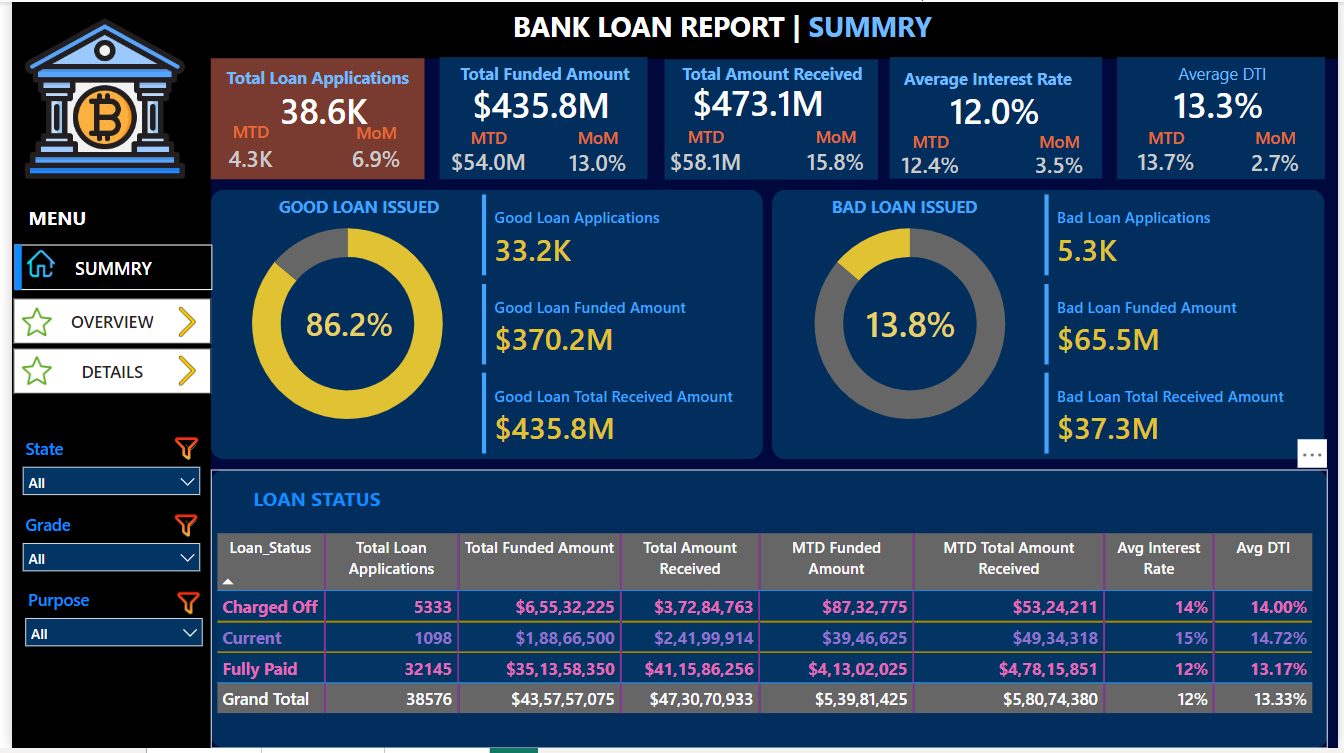

The page's visual inventory and layout, read from the dashboard file:
{"tool":"powerbi","page":{"name":"SUMMRY","canvas":[1280,720],"ordinal":0},"visuals":[{"type":"shape","box":[412,53.1,200.9,118],"z":0,"group":"g2"},{"type":"shape","box":[847,53.1,205.2,117.4],"z":0,"group":"g4"},{"type":"shape","box":[1066.1,53.1,200.9,118],"z":0,"group":"g5"},{"type":"shape","box":[191.8,54.3,206.3,117],"z":0,"group":"g1"},{"type":"shape","box":[628.9,54.9,206,116.2],"z":0,"group":"g3"},{"type":"shape","box":[733.5,181,533.2,260.6],"z":0},{"type":"shape","box":[0,0,1280.3,54.9],"z":1000},{"type":"card","title":"Total Loan Applications","fields":{"Values":["Bank_loan_Data.Total Amount Received"]},"box":[647.8,76.1,144.2,43.1],"z":1000,"group":"g3"},{"type":"card","title":"Total Loan Applications","fields":{"Values":["Bank_loan_Data.Total Funded Amount"]},"box":[431.3,78.6,157.1,41.7],"z":1000,"group":"g2"},{"type":"card","title":"Total Loan Applications","fields":{"Values":["Bank_loan_Data.Avg DTI"]},"box":[1085.4,78.6,157.1,41.7],"z":1000,"group":"g5"},{"type":"card","title":"Total Loan Applications","fields":{"Values":["Bank_loan_Data.Total Loan Applications"]},"box":[237.3,82.7,126.6,44.3],"z":1000,"group":"g1"},{"type":"card","title":"Total Loan Applications","fields":{"Values":["Bank_loan_Data.Avg Interest Rate"]},"box":[884.1,85.2,128.2,39.4],"z":1000,"group":"g4"},{"type":"textbox","box":[632.8,53.1,200.8,39.4],"z":2000,"group":"g3"},{"type":"textbox","box":[412,53.6,203.4,46.5],"z":2000,"group":"g2"},{"type":"textbox","box":[1066.1,53.6,203.4,46.5],"z":2000,"group":"g5"},{"type":"textbox","box":[192.3,56.9,206.3,34],"z":2000,"group":"g1"},{"type":"textbox","box":[848.7,57.6,187.5,31.8],"z":2000,"group":"g4"},{"type":"shape","box":[191.8,181,533,260.6],"z":2000},{"type":"shape","box":[0,54.9,192.1,665.5],"z":3000},{"type":"card","title":"MTD","fields":{"Values":["Bank_loan_Data.MTD Loan Applications"]},"box":[198.8,113.9,62.6,57.9],"z":3000,"group":"g1"},{"type":"card","title":"MTD","fields":{"Values":["Bank_loan_Data.MTD Total Amount Received"]},"box":[628,117.7,81.9,53.2],"z":3000,"group":"g3"},{"type":"card","title":"MTD","fields":{"Values":["Bank_loan_Data.MTD Funded Amount"]},"box":[410,119.1,99.6,51.5],"z":3000,"group":"g2"},{"type":"card","title":"MTD","fields":{"Values":["Bank_loan_Data.MTD Avg DTI"]},"box":[1064.1,119.1,99.6,51.5],"z":3000,"group":"g5"},{"type":"card","title":"MTD","fields":{"Values":["Bank_loan_Data.MTD Avg Int Rate"]},"box":[845.9,122.8,81.5,48.3],"z":3000,"group":"g4"},{"type":"card","title":"MoM","fields":{"Values":["Bank_loan_Data.MoM Loan Applications"]},"box":[307,114,90.4,55.3],"z":4000,"group":"g1"},{"type":"card","title":"MoM","fields":{"Values":["Bank_loan_Data.MoM Total Amount Received"]},"box":[753.3,117.7,81.9,53.2],"z":4000,"group":"g3"},{"type":"card","title":"MoM","fields":{"Values":["Bank_loan_Data.MoM Total Funded Amount"]},"box":[515,119.1,100.4,52.4],"z":4000,"group":"g2"},{"type":"card","title":"MoM","fields":{"Values":["Bank_loan_Data.MoM Avg DTI"]},"box":[1169.1,119.1,100.4,52.4],"z":4000,"group":"g5"},{"type":"card","title":"MoM","fields":{"Values":["Bank_loan_Data.MoM Avg Int Rate"]},"box":[970.5,122.8,81.5,48.3],"z":4000,"group":"g4"},{"type":"card","title":"Total Loan Applications","fields":{"Values":["Bank_loan_Data.Good Bad Loan %"]},"box":[803.5,292,127.9,38.6],"z":4000},{"type":"card","title":"Total Loan Applications","fields":{"Values":["Bank_loan_Data.Good Loan %"]},"box":[261.8,292,127.9,38.6],"z":5000},{"type":"textbox","box":[334.8,0,699.8,54.9],"z":6000},{"type":"group","id":"g1","title":"Group 1","box":[191.8,54.3,206.3,118.2],"z":7000},{"type":"group","id":"g2","title":"Group 1","box":[410,53.1,206,118],"z":8000},{"type":"group","id":"g3","title":"Group 1","box":[628,53.1,206,118],"z":9000},{"type":"group","id":"g4","title":"Group 1","box":[845.9,53.1,206.3,118],"z":10000},{"type":"group","id":"g5","title":"Group 1","box":[1064.1,53.1,206,118],"z":11000},{"type":"donutChart","fields":{"Category":["Bank_loan_Data.Good Loan vs Bad Loan"],"Y":["Bank_loan_Data.Total Loan Applications"]},"box":[742,190.6,249.7,240.1],"z":12000},{"type":"shape","title":"LOAN STATUS","box":[191.8,451.2,1078.6,269],"z":13000},{"type":"donutChart","fields":{"Category":["Bank_loan_Data.Good Loan vs Bad Loan"],"Y":["Bank_loan_Data.Total Loan Applications"]},"box":[199.1,190.6,249.7,240.1],"z":14000},{"type":"textbox","box":[237.7,181,194.2,35],"z":15000},{"type":"cardVisual","fields":{"Data":["Bank_loan_Data.Good Loan Applications","Bank_loan_Data.Good Loan Funded Amount","Bank_loan_Data.Good Loan Received Amount"]},"box":[448.8,181,271.4,260.6],"z":16000},{"type":"textbox","box":[752.8,181,217.2,35],"z":17000},{"type":"cardVisual","fields":{"Data":["Bank_loan_Data.Bad Loan Applications","Bank_loan_Data.Bad Loan Funded Amount","Bank_loan_Data.Bad Loan Total Received Amount"]},"box":[991.7,181,271.4,260.6],"z":18000},{"type":"tableEx","fields":{"Values":["Bank_loan_Data.loan_status","Bank_loan_Data.Total Loan Applications","Bank_loan_Data.Total Funded Amount","Bank_loan_Data.Total Amount Received","Bank_loan_Data.MTD Funded Amount","Bank_loan_Data.MTD Total Amount Received","Bank_loan_Data.Avg Interest Rate","Bank_loan_Data.Avg DTI"]},"box":[191.8,507.9,1071.3,196.6],"z":19000},{"type":"textbox","box":[199.1,462.1,190.6,45.8],"z":20000},{"type":"slicer","fields":{"Values":["Bank_loan_Data.address_state"]},"box":[0,415,191.8,72.4],"z":21000},{"type":"slicer","fields":{"Values":["Bank_loan_Data.grade"]},"box":[0,488.6,191.8,72.4],"z":22000},{"type":"slicer","fields":{"Values":["Bank_loan_Data.purpose"]},"box":[2.4,561,191.8,76],"z":23000},{"type":"image","box":[0,6,179.8,174.9],"z":24000},{"type":"pageNavigator","box":[2.4,234,191.8,44.6],"z":25000},{"type":"pageNavigator","box":[1.2,285.9,191.8,44.6],"z":26000},{"type":"pageNavigator","box":[1.2,334.2,191.8,44.6],"z":27000},{"type":"image","box":[136.3,289.5,65.1,38.6],"z":28000},{"type":"image","box":[136.3,336.6,65.1,38.6],"z":29000},{"type":"image","box":[144.8,410.2,47.1,41],"z":30000},{"type":"image","box":[144.8,485,47.1,39.8],"z":31000},{"type":"image","box":[147.2,559.8,47.1,39.8],"z":32000},{"type":"image","box":[2.4,234,51.9,37.4],"z":33000},{"type":"image","box":[0,289.5,48.3,38.6],"z":34000},{"type":"image","box":[0,336.6,48.3,38.6],"z":35000},{"type":"textbox","box":[10.9,190.6,85.7,35],"z":35001}]}

Visuals, with their boxes in screenshot pixels (x1, y1, x2, y2), scaled from the page's 1280x720 canvas onto the 1344x753 screenshot:
shape: 433:56:644:179
shape: 889:56:1105:178
shape: 1119:56:1330:179
shape: 201:57:418:179
shape: 660:57:877:179
shape: 770:189:1330:462
shape: 0:0:1343:57
"Total Loan Applications" card: 680:80:832:125
"Total Loan Applications" card: 453:82:618:126
"Total Loan Applications" card: 1140:82:1305:126
"Total Loan Applications" card: 249:86:382:133
"Total Loan Applications" card: 928:89:1063:130
textbox: 664:56:875:97
textbox: 433:56:646:105
textbox: 1119:56:1333:105
textbox: 202:60:419:95
textbox: 891:60:1088:93
shape: 201:189:761:462
shape: 0:57:202:752
"MTD" card: 209:119:274:180
"MTD" card: 659:123:745:179
"MTD" card: 430:125:535:178
"MTD" card: 1117:125:1222:178
"MTD" card: 888:128:974:179
"MoM" card: 322:119:417:177
"MoM" card: 791:123:877:179
"MoM" card: 541:125:646:179
"MoM" card: 1228:125:1333:179
"MoM" card: 1019:128:1105:179
"Total Loan Applications" card: 844:305:978:346
"Total Loan Applications" card: 275:305:409:346
textbox: 352:0:1086:57
"Group 1" group: 201:57:418:180
"Group 1" group: 430:56:647:179
"Group 1" group: 659:56:876:179
"Group 1" group: 888:56:1105:179
"Group 1" group: 1117:56:1334:179
donutChart - Bank_loan_Data.Good Loan vs Bad Loan x Bank_loan_Data.Total Loan Applications: 779:199:1041:450
"LOAN STATUS" shape: 201:472:1334:752
donutChart - Bank_loan_Data.Good Loan vs Bad Loan x Bank_loan_Data.Total Loan Applications: 209:199:471:450
textbox: 250:189:453:226
cardVisual - Bank_loan_Data.Good Loan Applications x Bank_loan_Data.Good Loan Funded Amount: 471:189:756:462
textbox: 790:189:1018:226
cardVisual - Bank_loan_Data.Bad Loan Applications x Bank_loan_Data.Bad Loan Funded Amount: 1041:189:1326:462
tableEx - Bank_loan_Data.loan_status x Bank_loan_Data.Total Loan Applications: 201:531:1326:737
textbox: 209:483:409:531
slicer - Bank_loan_Data.address_state: 0:434:201:510
slicer - Bank_loan_Data.grade: 0:511:201:587
slicer - Bank_loan_Data.purpose: 3:587:204:666
image: 0:6:189:189
pageNavigator: 3:245:204:291
pageNavigator: 1:299:203:346
pageNavigator: 1:350:203:396
image: 143:303:211:343
image: 143:352:211:392
image: 152:429:201:472
image: 152:507:201:549
image: 155:585:204:627
image: 3:245:57:284
image: 0:303:51:343
image: 0:352:51:392
textbox: 11:199:101:236
